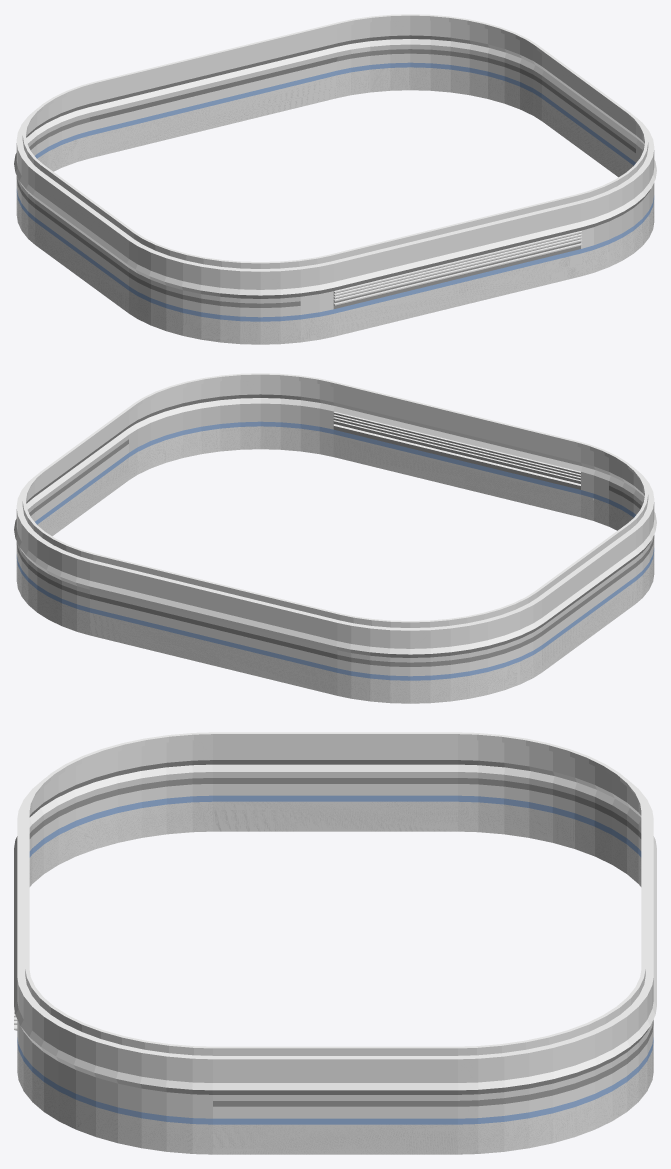
Rendered from stadium_v3.glb.
3 renders of one model, top to bottom at view 1: azimuth 30°, elevation 25°; view 2: azimuth 150°, elevation 25°; view 3: azimuth 270°, elevation 25°, orthographic. The views are drawn at different scales.
Parts seen in each view (by area): view 1: SketchUp.972, SketchUp.1220, SketchUp.949, SketchUp.1215, SketchUp.1005, SketchUp.1216, SketchUp.1004, SketchUp.1351, SketchUp.1348, SketchUp.1349, SketchUp.1355, SketchUp.1485 (+1 smaller); view 2: SketchUp.972, SketchUp.1220, SketchUp.949, SketchUp.1004, SketchUp.1215, SketchUp.1005, SketchUp.1216, SketchUp.1351, SketchUp.1349, SketchUp.1355, SketchUp.1348, SketchUp.1356 (+4 smaller); view 3: SketchUp.972, SketchUp.1220, SketchUp.949, SketchUp.1004, SketchUp.1215, SketchUp.1005, SketchUp.1351, SketchUp.1216, SketchUp.1348.
Part boxes in pixels (box(x1,y1,x2,y2)): SketchUp.972: box(14, 20, 656, 317); SketchUp.1220: box(16, 67, 654, 344); SketchUp.949: box(22, 14, 648, 268); SketchUp.1215: box(16, 62, 654, 321); SketchUp.1005: box(17, 49, 351, 303); SketchUp.1216: box(35, 63, 635, 165); SketchUp.1004: box(370, 44, 654, 244); SketchUp.1351: box(16, 117, 300, 307); SketchUp.1348: box(337, 49, 635, 152); SketchUp.1349: box(90, 57, 337, 121); SketchUp.1355: box(333, 245, 580, 308); SketchUp.1485: box(319, 246, 593, 316); SketchUp.972: box(14, 379, 656, 676); SketchUp.1220: box(16, 426, 654, 703); SketchUp.949: box(22, 373, 648, 627); SketchUp.1004: box(17, 403, 319, 584); SketchUp.1215: box(16, 421, 654, 680); SketchUp.1005: box(77, 481, 653, 662); SketchUp.1216: box(35, 422, 635, 524); SketchUp.1351: box(337, 485, 654, 666); SketchUp.1349: box(90, 594, 337, 658); SketchUp.1355: box(333, 426, 580, 489); SketchUp.1348: box(16, 439, 128, 598); SketchUp.1356: box(333, 421, 580, 483); SketchUp.972: box(14, 739, 656, 1118); SketchUp.1220: box(17, 801, 653, 1154); SketchUp.949: box(25, 732, 645, 1055); SketchUp.1004: box(18, 1022, 647, 1118); SketchUp.1215: box(17, 795, 653, 1124); SketchUp.1005: box(29, 772, 653, 1025); SketchUp.1351: box(29, 778, 641, 838); SketchUp.1216: box(29, 796, 641, 857); SketchUp.1348: box(213, 1020, 653, 1106).
Size of the model in its own units: 235 by 34.6 by 196.
Materials: 6 (1 with a texture image).
